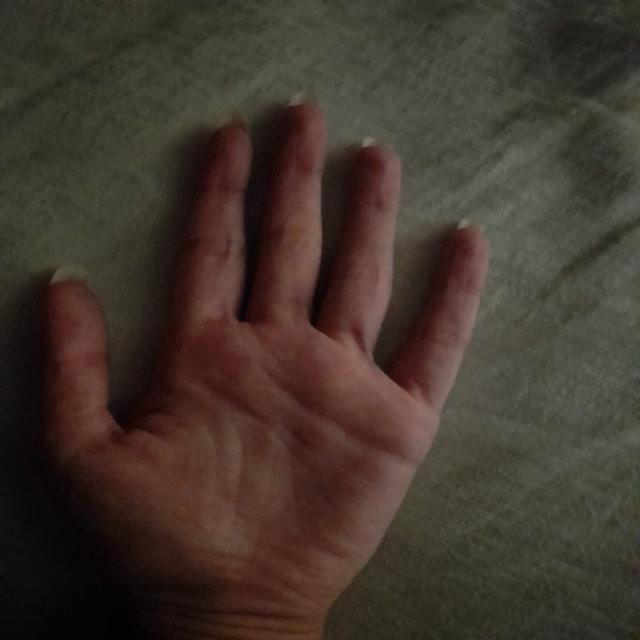Open Hand: (45, 102, 486, 607)
